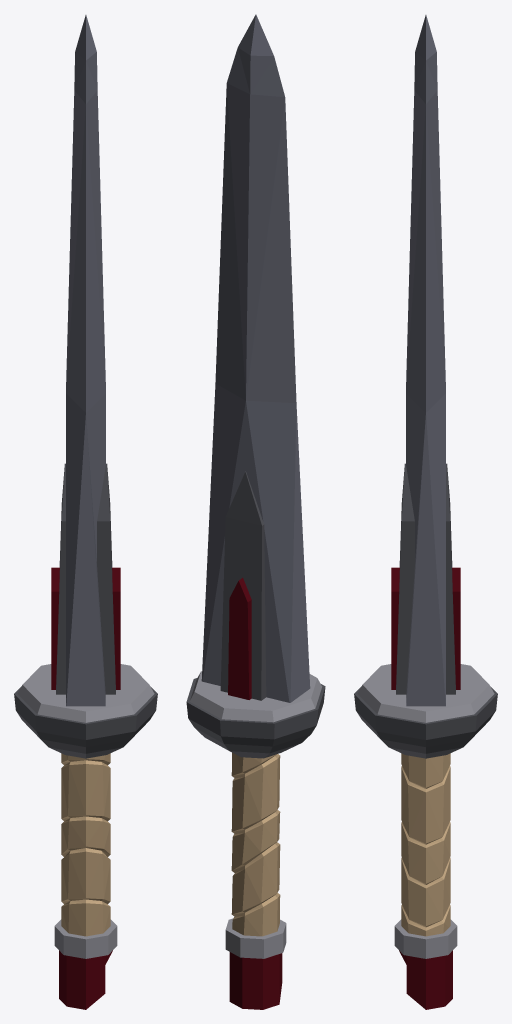
Rendered from _sword_3.fbx.
The picture shows the model from 3 angles, left to right: view 1: azimuth 90°, elevation 25°; view 2: azimuth 150°, elevation 25°; view 3: azimuth 270°, elevation 25°; orthographic projection.
Visible parts, largest first — view 1: sword_3; view 2: sword_3; view 3: sword_3.
Part boxes in pixels (x1=…): sword_3: x1=14, y1=15, x2=157, y2=1009; sword_3: x1=186, y1=14, x2=325, y2=1009; sword_3: x1=354, y1=15, x2=497, y2=1009.
Bounding box in the file's own units: 11.29 × 85.25 × 11.29.
